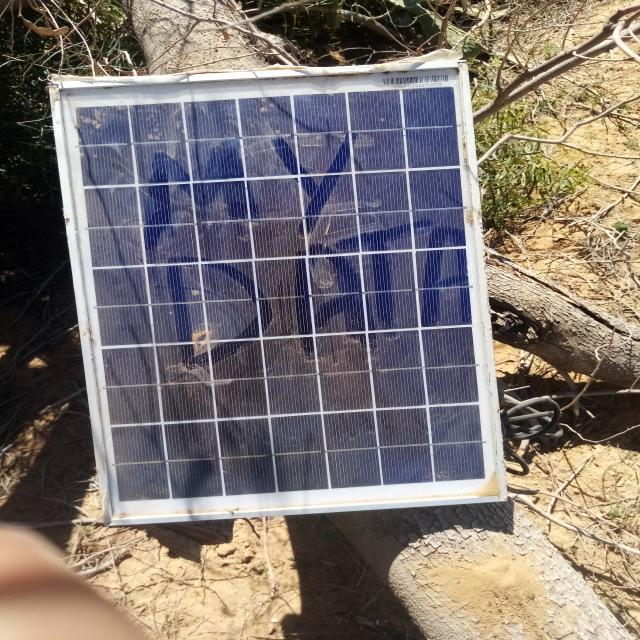faulty: (55, 65, 507, 523)
